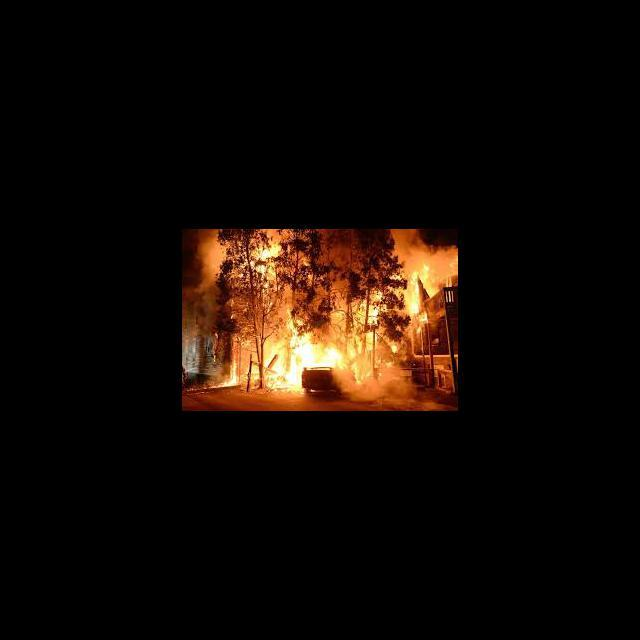Fire: (192, 230, 458, 396)
